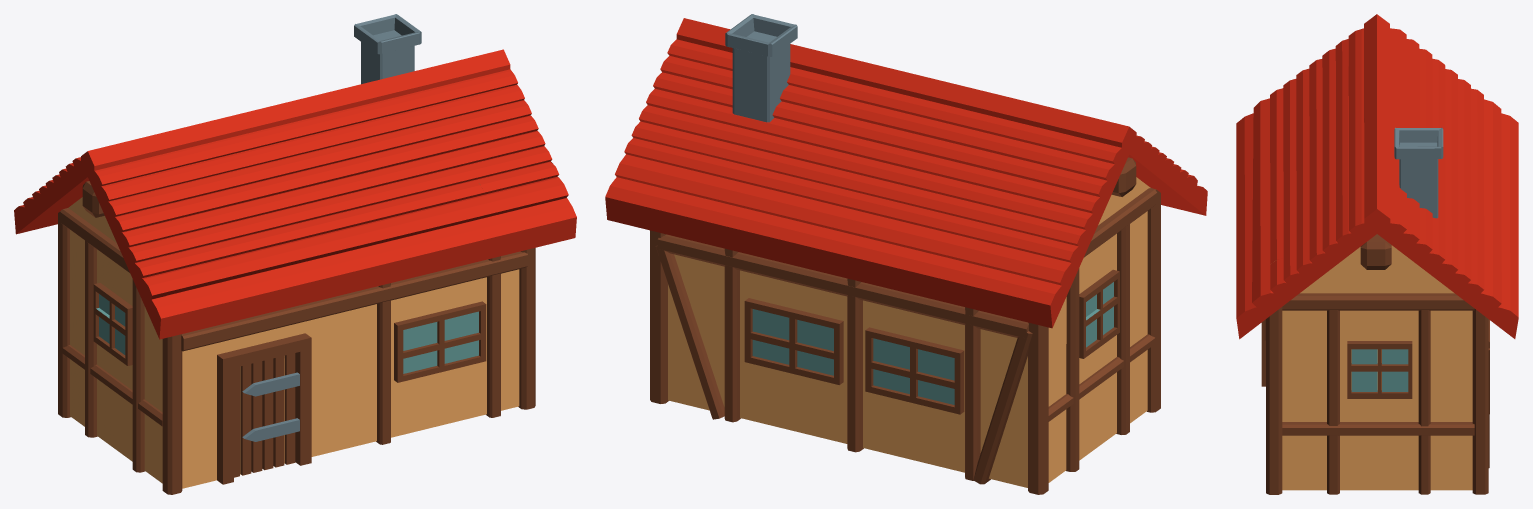
Rendered from House_4.glb.
The picture shows the model from 3 angles, left to right: view 1: azimuth 30°, elevation 25°; view 2: azimuth 150°, elevation 25°; view 3: azimuth 270°, elevation 25°; orthographic projection. The views are drawn at different scales.
Visible parts, largest first — view 1: House 4; view 2: House 4; view 3: House 4.
Part boxes in pixels (left/top/right/bottom): House 4: left=14, top=14, right=576, bottom=494; House 4: left=605, top=14, right=1207, bottom=494; House 4: left=1236, top=14, right=1518, bottom=494.
Bounding box in the file's own units: 6.47 × 5.02 × 3.92.
